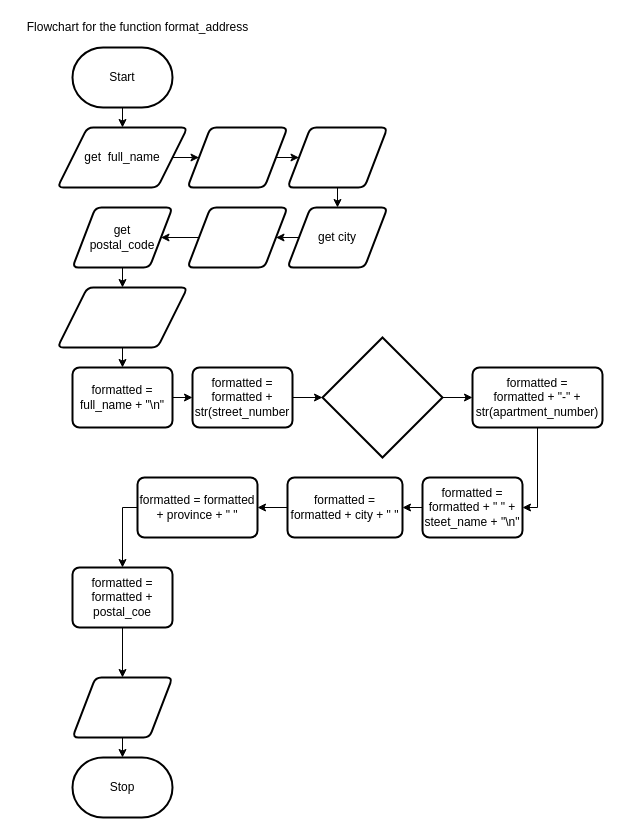
Image size: 620x835. Some labels were removed from this diagram. The box of each missing label's shape, as (x1, y1, x2, y2) in pixels:
get apartment_number =None:: (56, 286, 188, 348)
get street_name: (286, 126, 388, 188)
get street_number: (186, 126, 288, 188)
get_province: (186, 206, 288, 268)
if apartment_number != None:: (321, 336, 443, 458)
return formatted: (71, 676, 173, 738)
